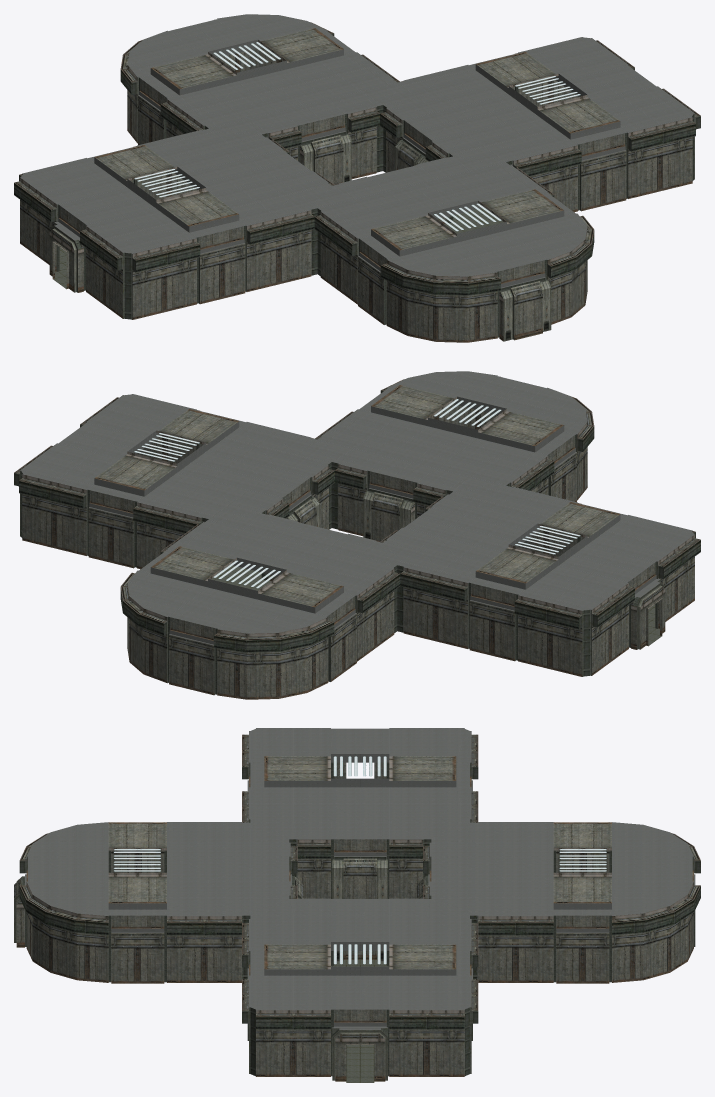
The model's file is poi_all_impl_bunker_crimelord_retreat_s01_r31_mechanicalroom_mesh_r31.fbx.
3 views of the same model, one above another, from view 1: azimuth 30°, elevation 25°; view 2: azimuth 150°, elevation 25°; view 3: azimuth 270°, elevation 25° (orthographic).
Parts seen in each view (by area): view 1: mesh_node; view 2: mesh_node; view 3: mesh_node.
Boxes of the visible parts, box(x1,y1,x2,y2) form: mesh_node: box(14, 14, 700, 342); mesh_node: box(14, 371, 700, 699); mesh_node: box(14, 728, 700, 1082).
Bounding box in the file's own units: 50 × 6 × 49.4.
